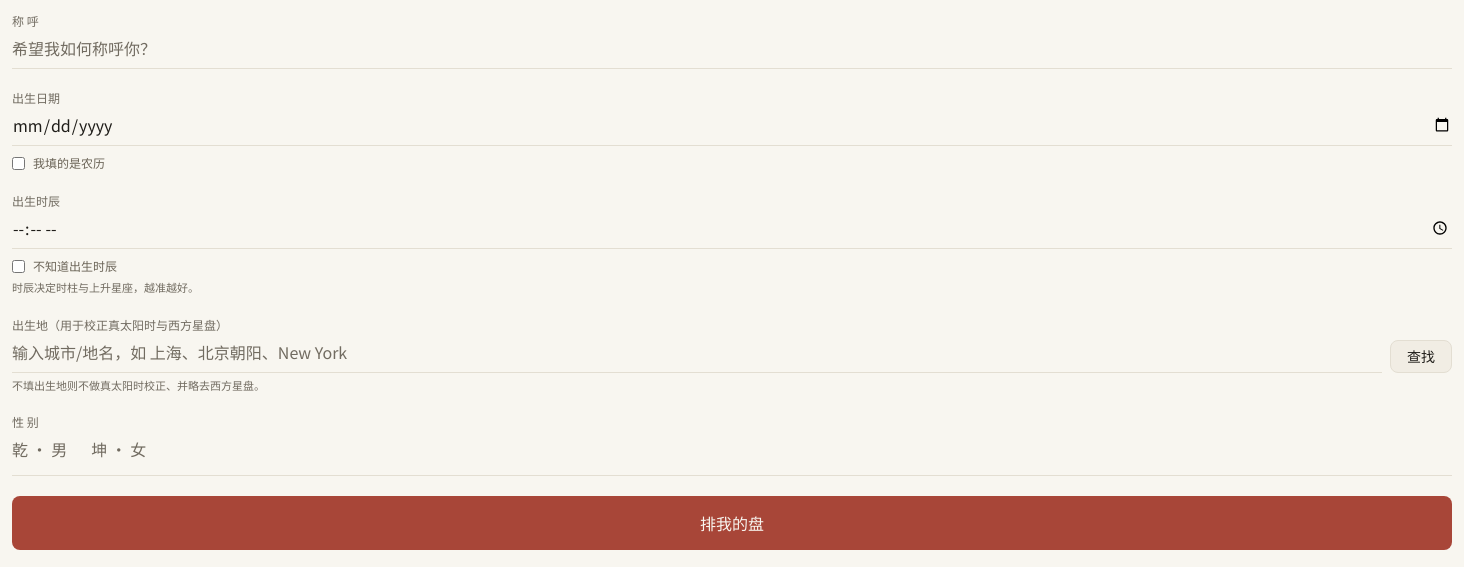
ReadingForm：对照设计稿 › 填了时辰后，时辰名（如「未时」）显示在时间输入前面；勾选「时辰不确定」后隐藏
The image size is (1464, 567).
Step 1. Type "14:30" into the time field → (732, 232), box [12,216,1452,248]
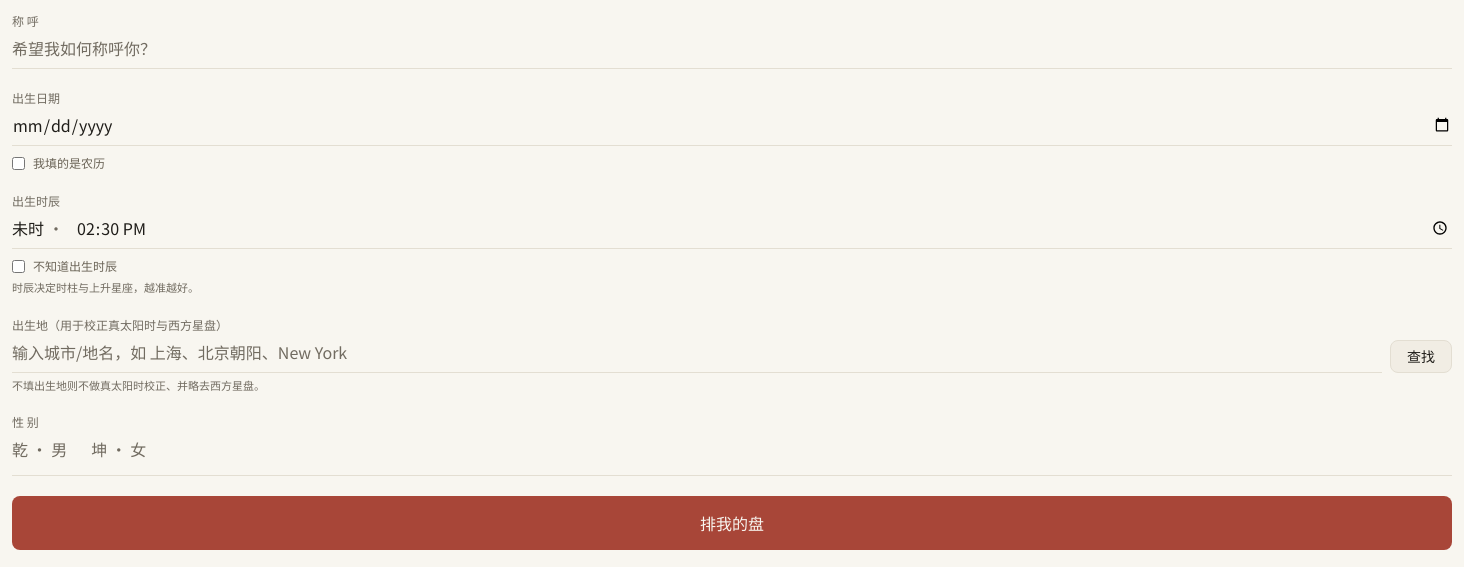
Now the text "未时" is shown, box [12,216,44,240]
Step 2. Click the checkbox labelled "不知道出生时辰" → (18, 266), box [12,260,25,272]
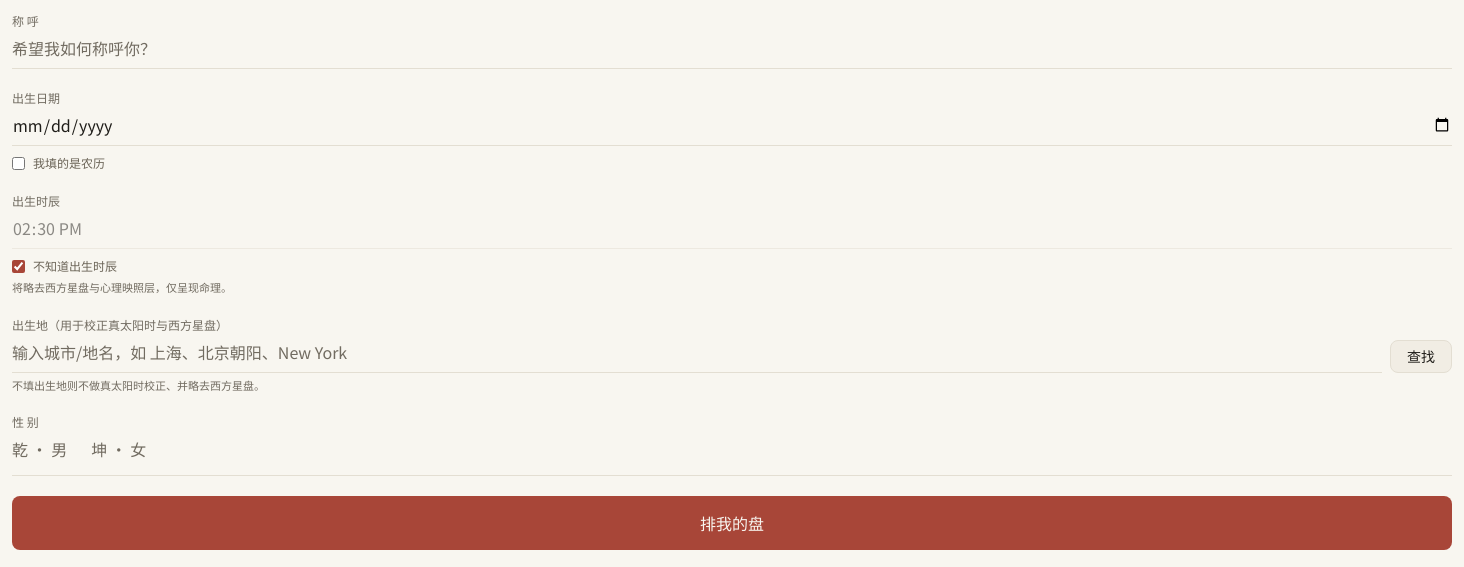
Now the text "未时" is gone
Now the time field is disabled, box [12,216,1452,248]
